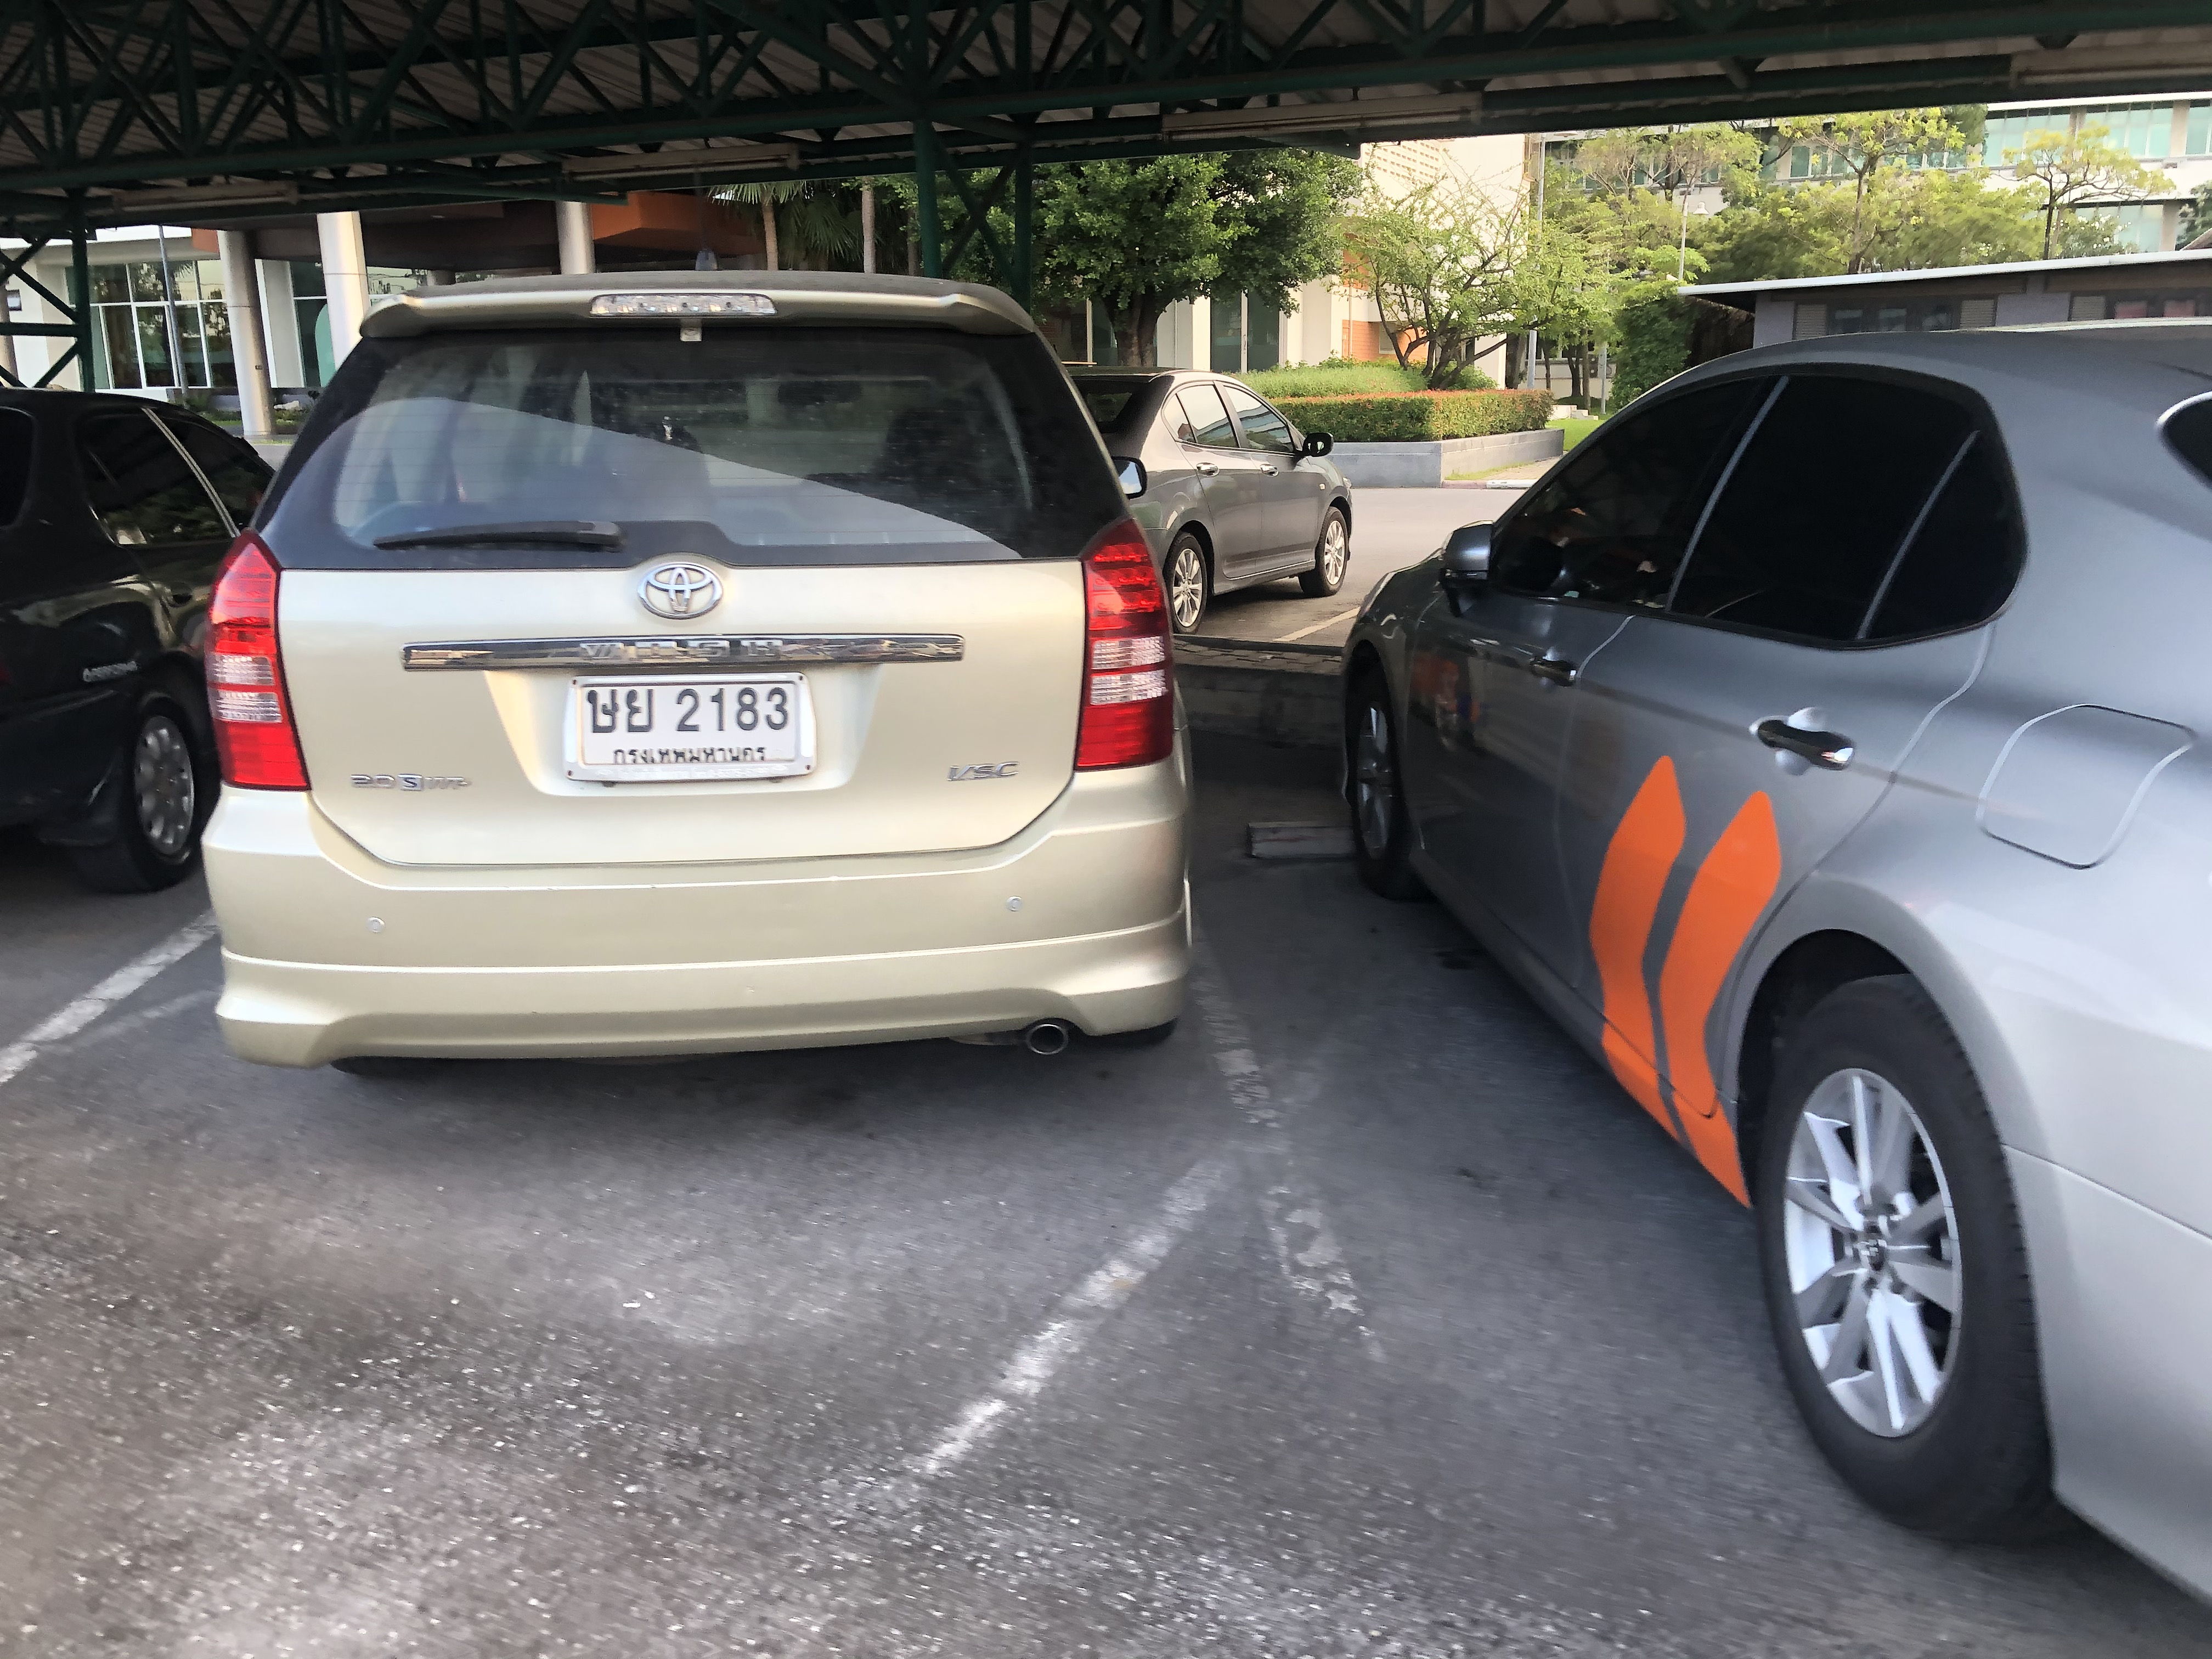in: (585, 683, 798, 762)
out: (557, 660, 820, 788)
